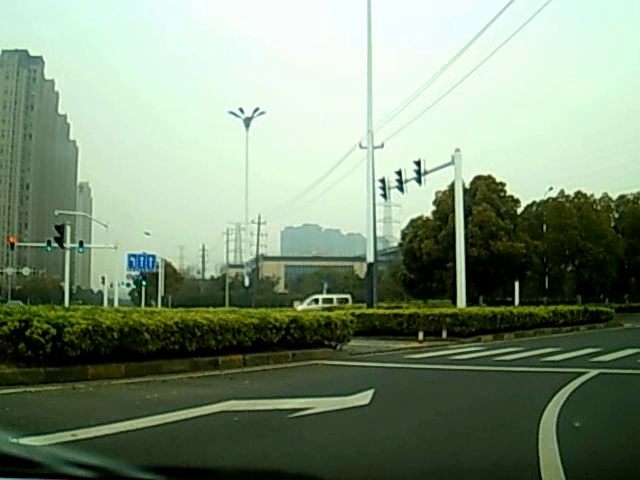Traffic_Light_go: (77, 239, 87, 254), (45, 241, 53, 255)
Traffic_Light_stop: (7, 235, 17, 251)
